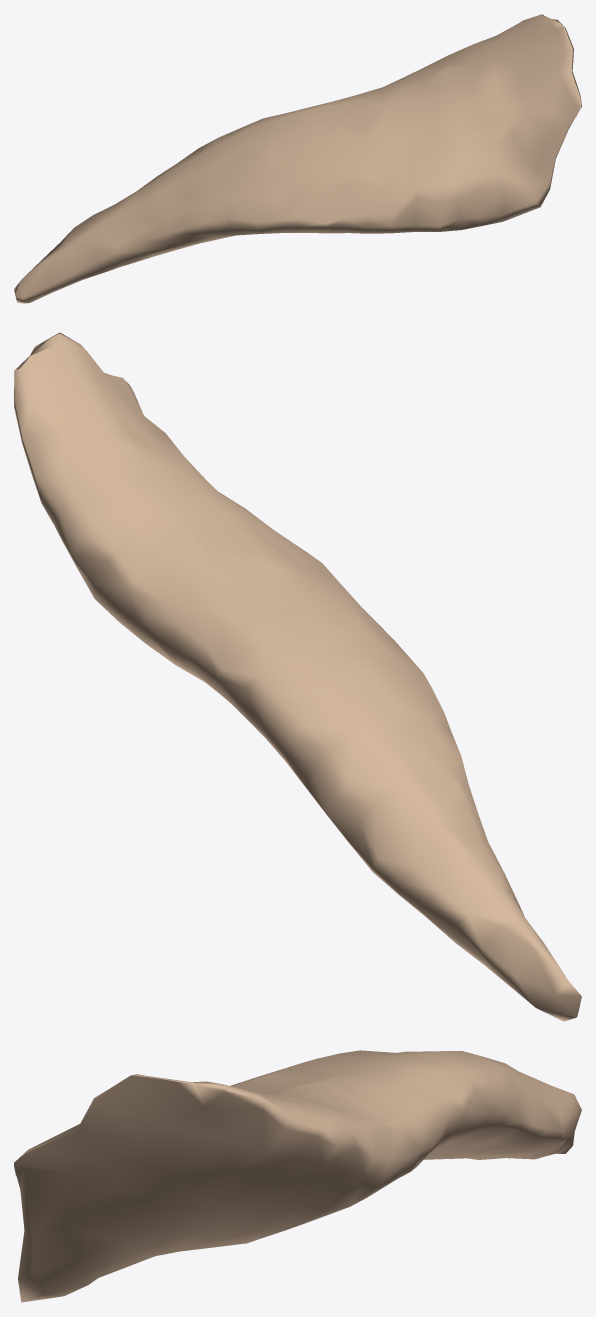
3 renders of one model, top to bottom at view 1: azimuth 30°, elevation 25°; view 2: azimuth 150°, elevation 25°; view 3: azimuth 270°, elevation 25°, orthographic. The views are drawn at different scales.
Parts seen in each view (by area): view 1: 右侧梨状肌筋膜; view 2: 右侧梨状肌筋膜; view 3: 右侧梨状肌筋膜.
Boxes of the visible parts, x1=… form: 右侧梨状肌筋膜: x1=14, y1=14, x2=581, y2=303; 右侧梨状肌筋膜: x1=14, y1=332, x2=581, y2=1021; 右侧梨状肌筋膜: x1=14, y1=1050, x2=581, y2=1302.
Size of the model in its own units: 0.1632 by 0.0881 by 0.0943.
